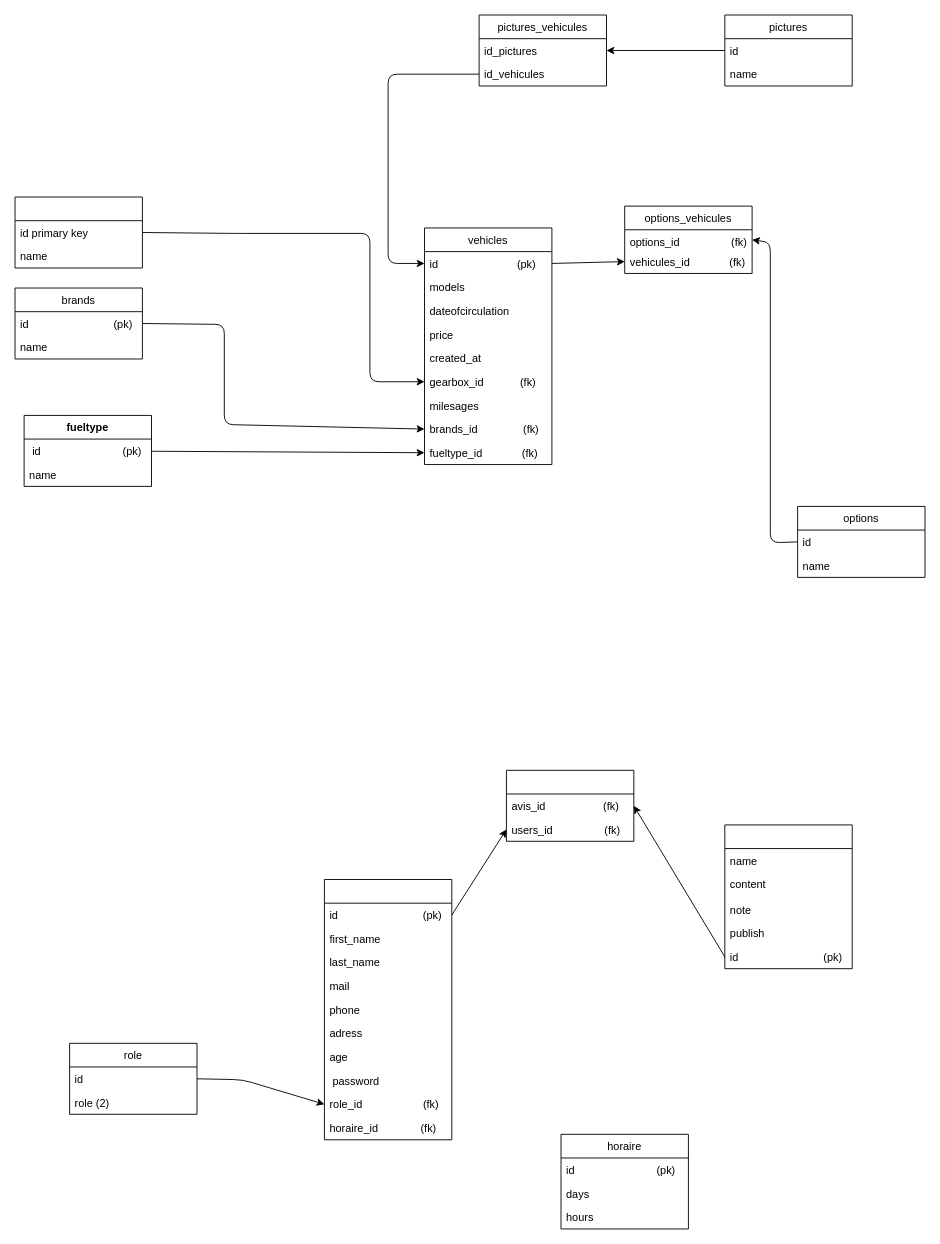
This 940x1244 diagram has some shape labels left out. Each missing label, with the box of its shape:
Avis: (724, 824, 852, 969)
avis_users: (506, 769, 634, 841)
gearbox: (14, 196, 142, 268)
users: (324, 879, 452, 1140)
